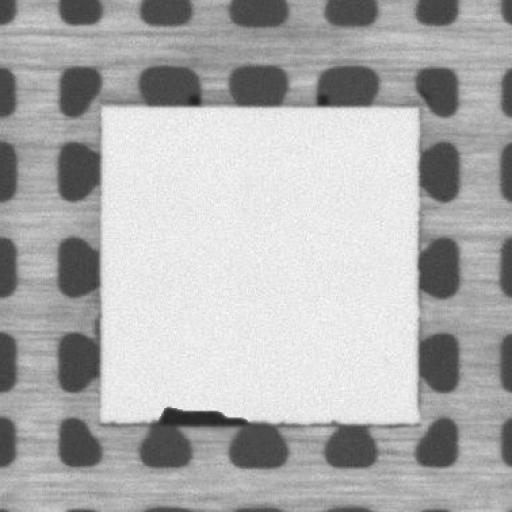DIE_BROKEN: (158, 403, 246, 424)
